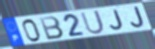0: (22, 18, 43, 43)
2: (62, 13, 87, 38)
B: (38, 15, 65, 41)
J: (130, 6, 146, 29), (110, 9, 125, 31)
U: (80, 9, 106, 35)
